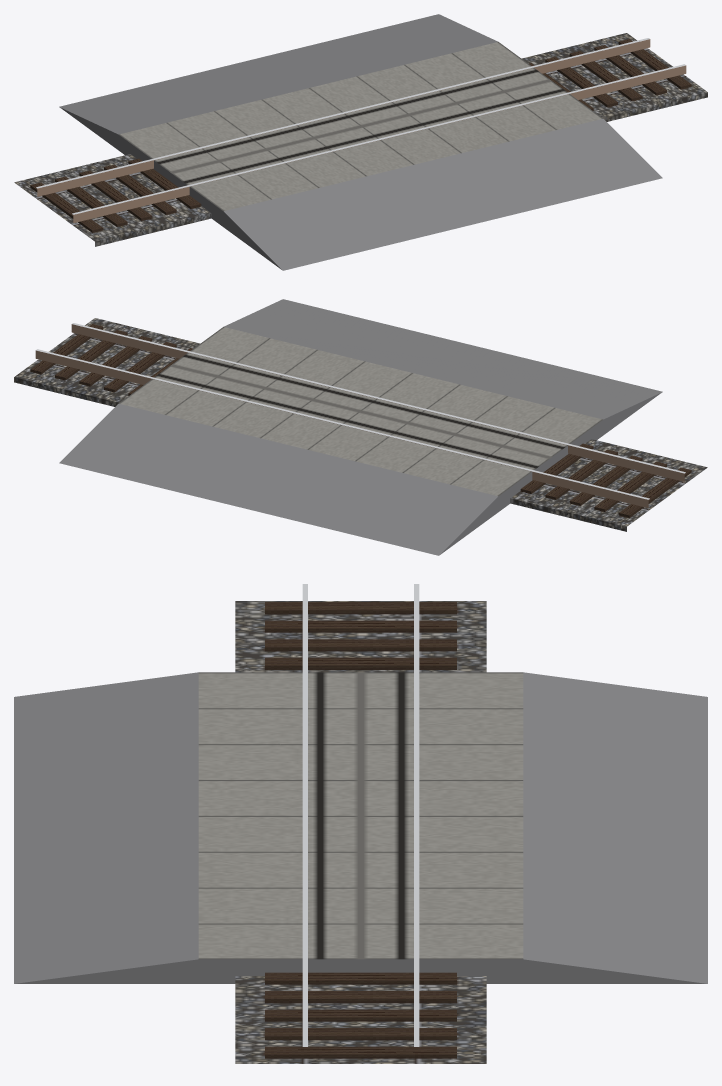
Rendered from kolej_prejezd_drevo.glb.
3 renders of one model, top to bottom at view 1: azimuth 30°, elevation 25°; view 2: azimuth 150°, elevation 25°; view 3: azimuth 270°, elevation 25°, orthographic. The views are drawn at different scales.
Visible parts, largest first — view 1: kolej_prejezd_drevo; view 2: kolej_prejezd_drevo; view 3: kolej_prejezd_drevo.
Boxes of the visible parts, x1,y1,x2,y2 form: kolej_prejezd_drevo: (14, 14, 707, 270); kolej_prejezd_drevo: (14, 299, 707, 555); kolej_prejezd_drevo: (14, 584, 707, 1063).
Size of the model in its own units: 14.84 by 0.373 by 9.4.
Materials: 6 (3 with a texture image).
